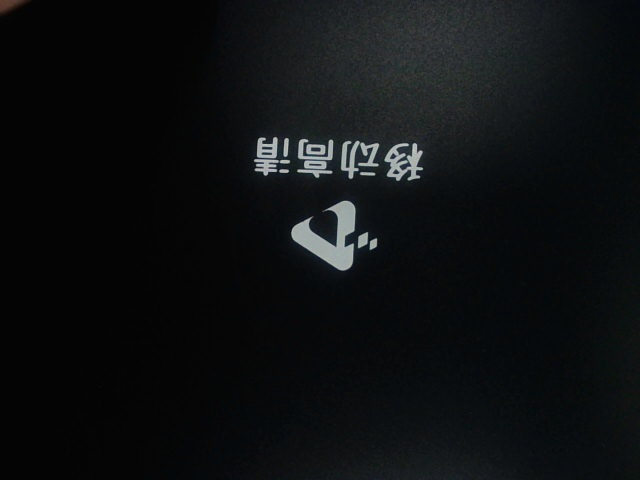AO_MobileHD: (229, 106, 440, 288)
